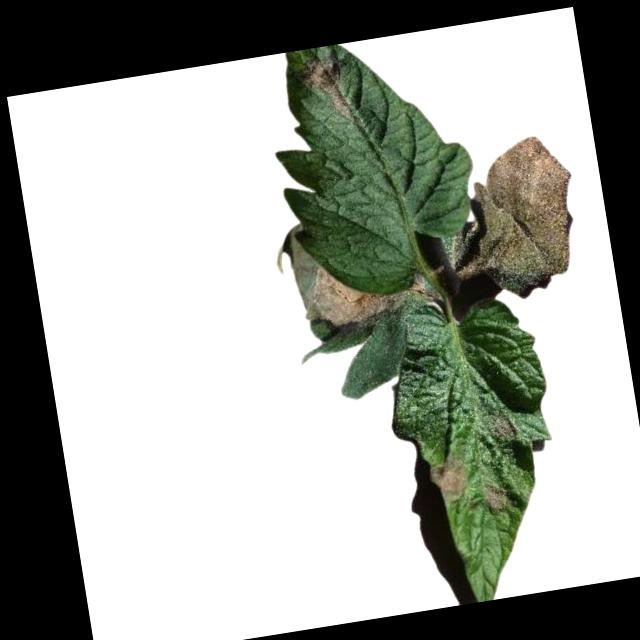Late_blight: (461, 132, 586, 301), (294, 251, 439, 336), (295, 53, 356, 127), (429, 455, 471, 505), (482, 483, 511, 514), (490, 416, 519, 445)
